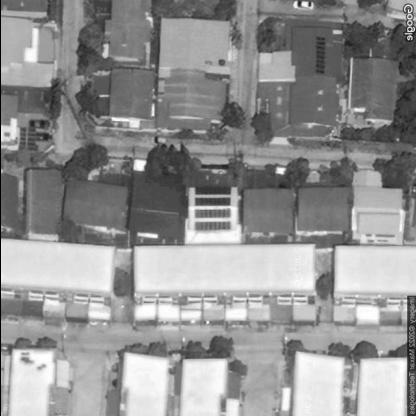solar-pv-panel: (194, 188, 232, 230)
